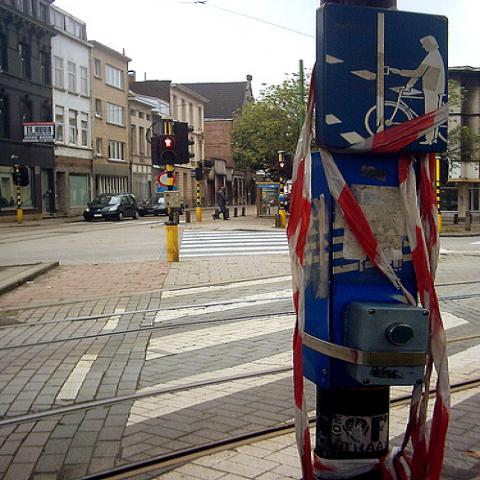car: (78, 192, 140, 222), (139, 197, 164, 216)
